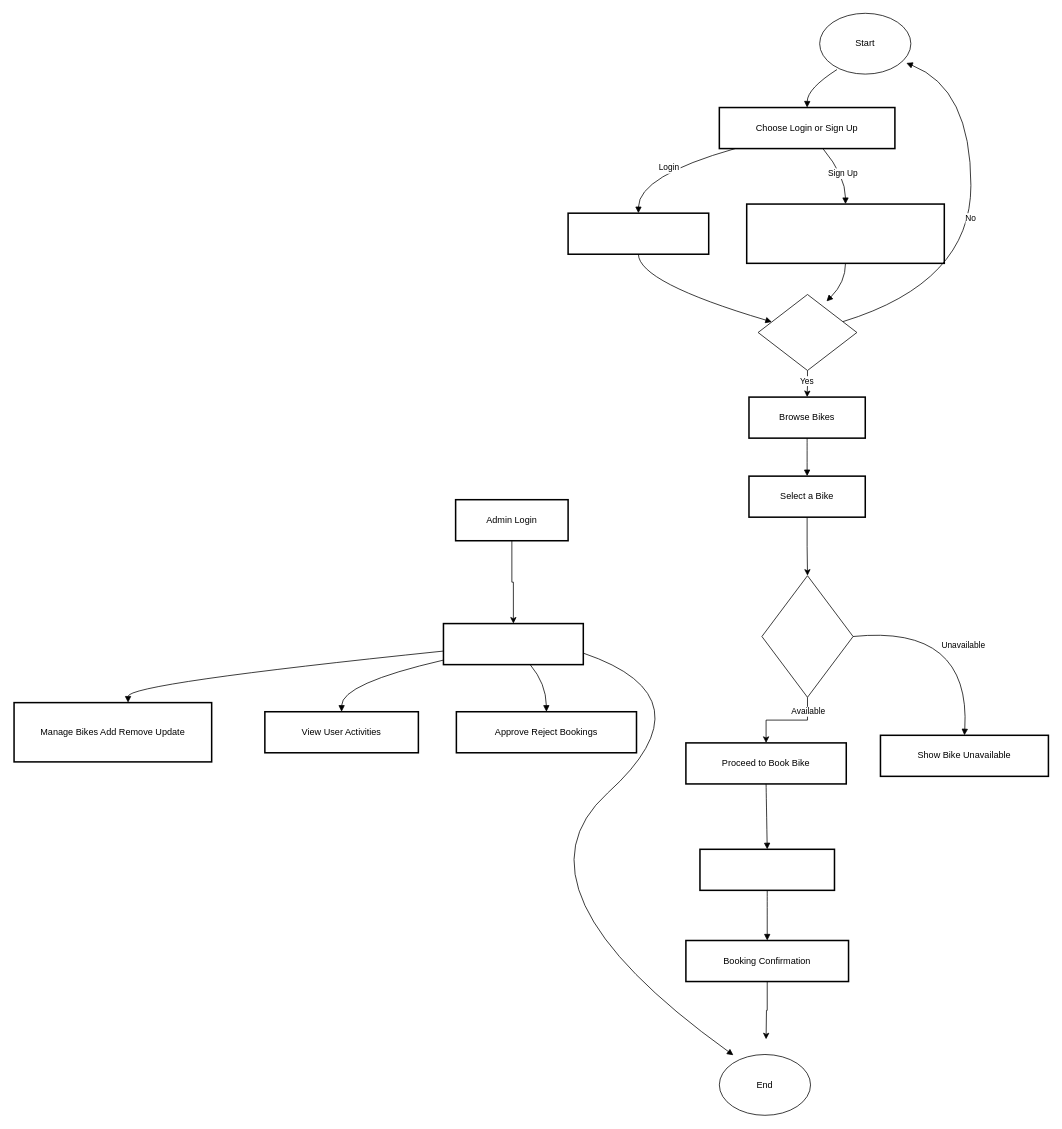
Image size: 1062x1129. Some labels were removed from this diagram. Each missing label, with the box of its shape:
Admin Dashboard: (442, 622, 584, 665)
Check the Bike availability: (761, 575, 853, 697)
Confirm Booking: (699, 848, 835, 891)
Enter Credentials: (567, 212, 709, 255)
Provide Details and Create Account: (746, 203, 945, 264)
Validate credentials: (757, 294, 857, 370)
